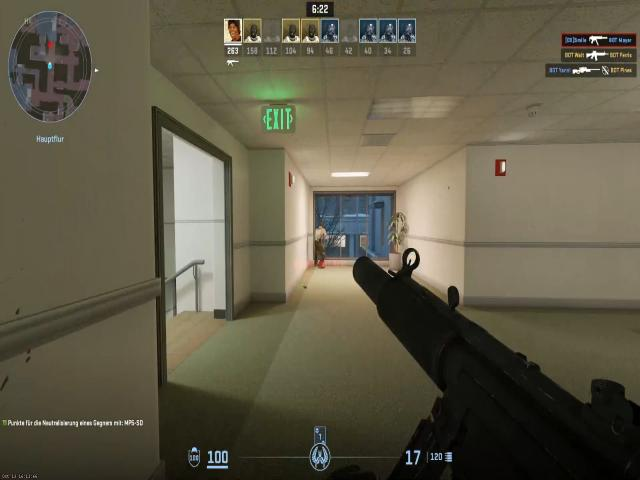T: (313, 222, 327, 250)
T-Head: (318, 223, 323, 233)
